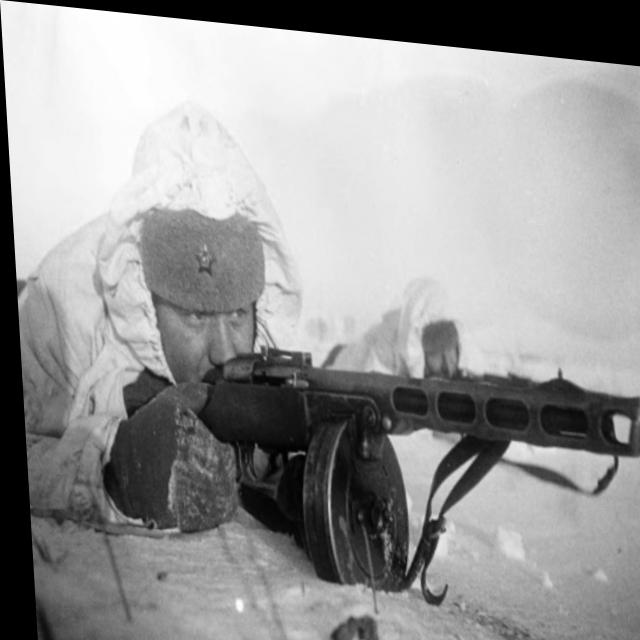other: (24, 86, 348, 588)
